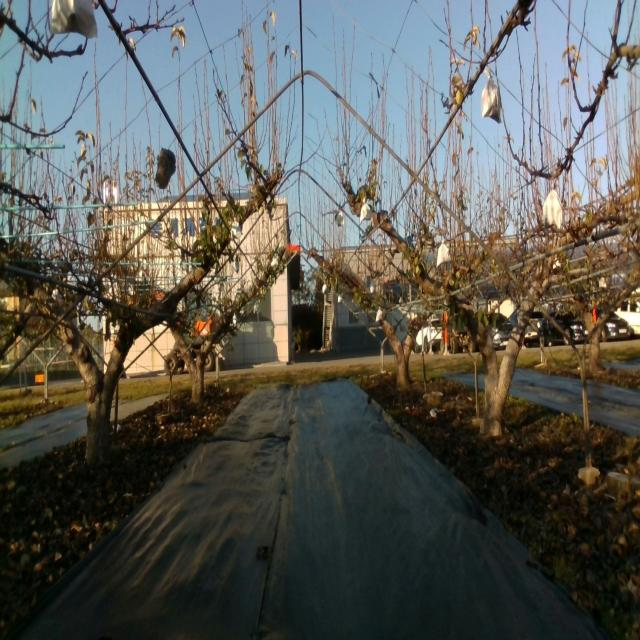pearbags: (480, 68, 502, 124), (542, 188, 562, 229), (436, 237, 452, 271), (359, 198, 372, 222), (231, 217, 241, 240)
